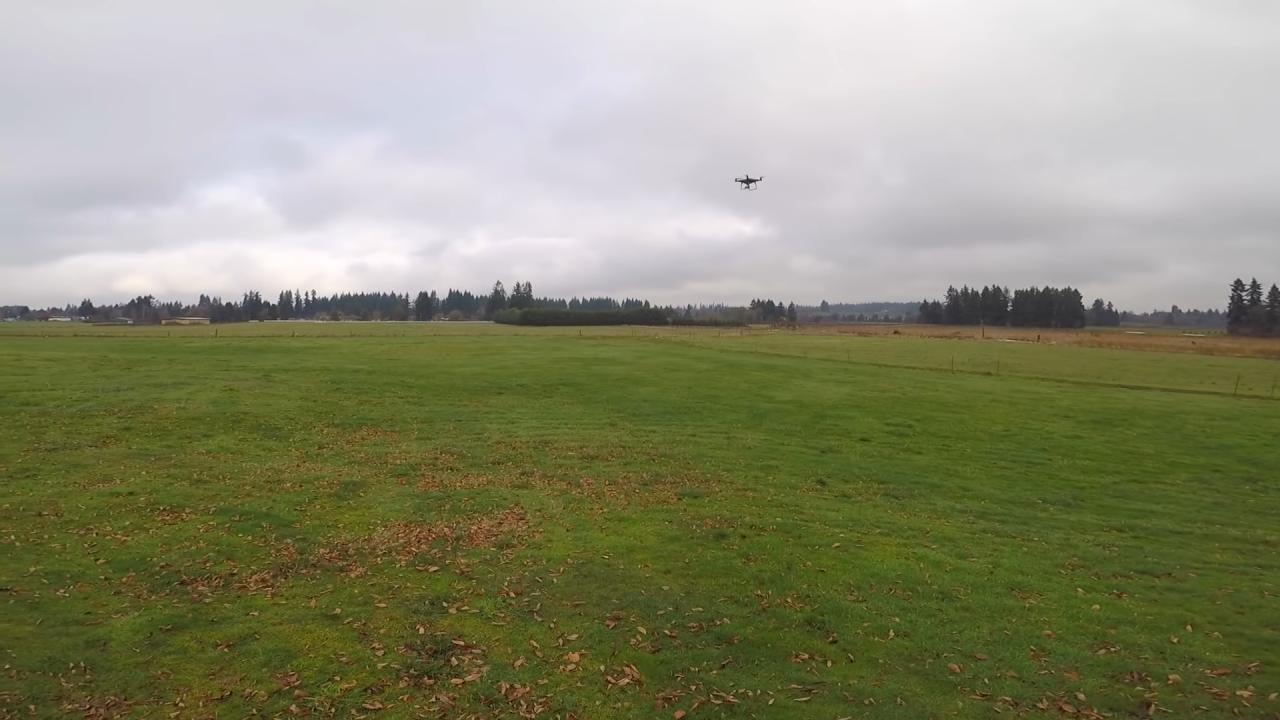Drone: (724, 167, 769, 197)
